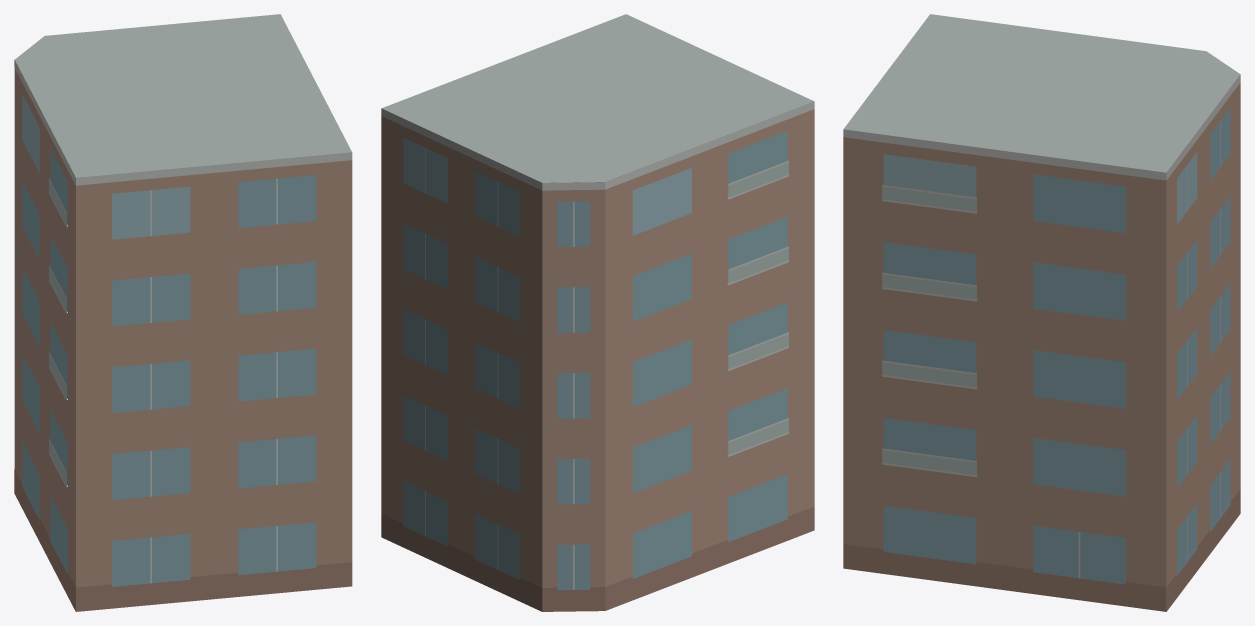
The model's file is survey-upis-32535678.glb.
The picture shows the model from 3 angles, left to right: view 1: azimuth 30°, elevation 25°; view 2: azimuth 150°, elevation 25°; view 3: azimuth 270°, elevation 25°; orthographic projection. The views are drawn at different scales.
Visible parts, largest first — view 1: survey-upis-32535678.tmp; view 2: survey-upis-32535678.tmp; view 3: survey-upis-32535678.tmp.
Boxes of the visible parts, x1,y1,x2,y2 form: survey-upis-32535678.tmp: (14,14,352,611); survey-upis-32535678.tmp: (381,14,814,611); survey-upis-32535678.tmp: (843,14,1240,611).
Size of the model in its own units: 10.55 by 13.6 by 11.16.
